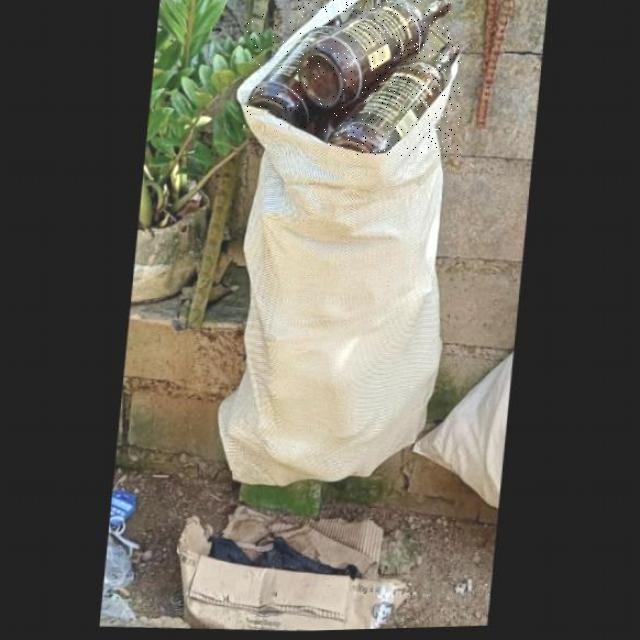glass: (298, 1, 451, 112), (328, 47, 461, 157), (247, 13, 364, 132)
